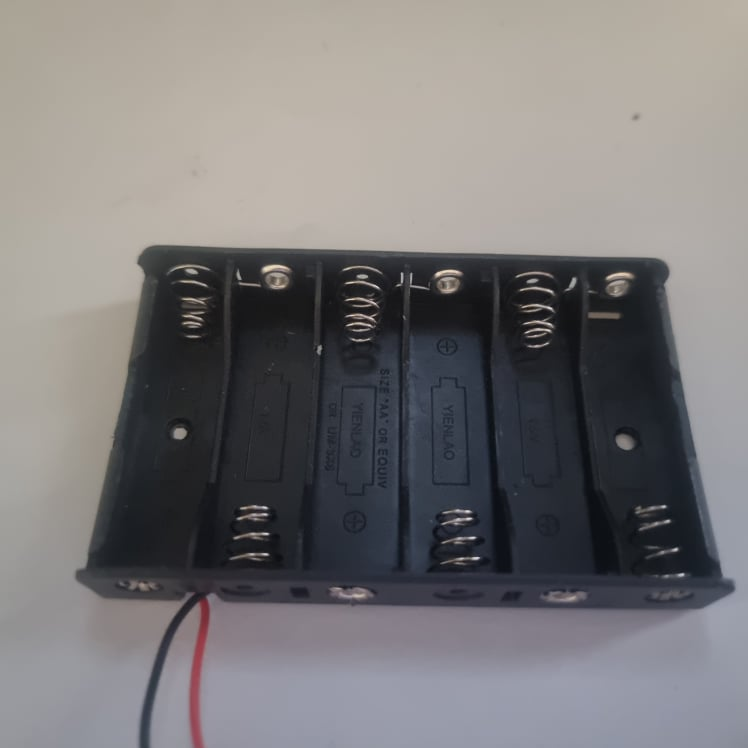BATTERY BOX: (71, 245, 734, 615)
